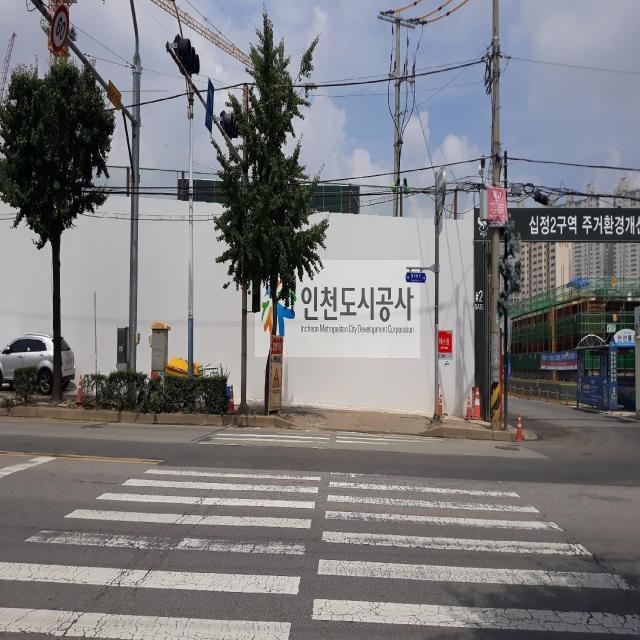횡단보도: (0, 426, 640, 640)
